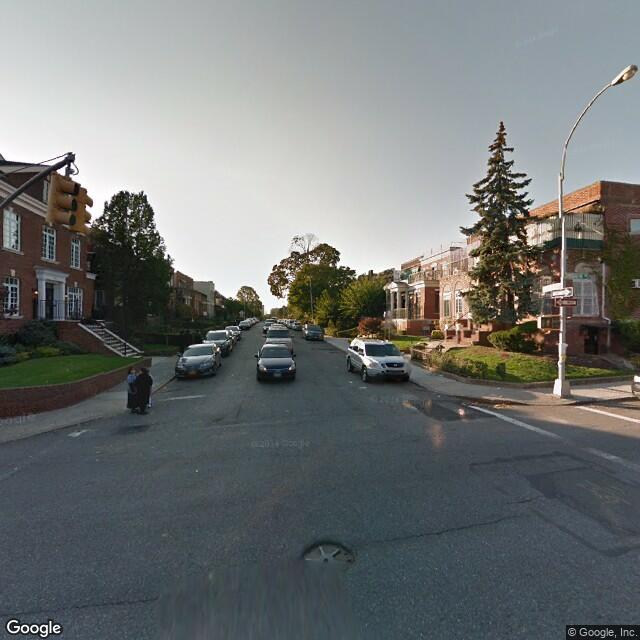litter: (360, 386, 366, 390), (348, 378, 355, 381)
